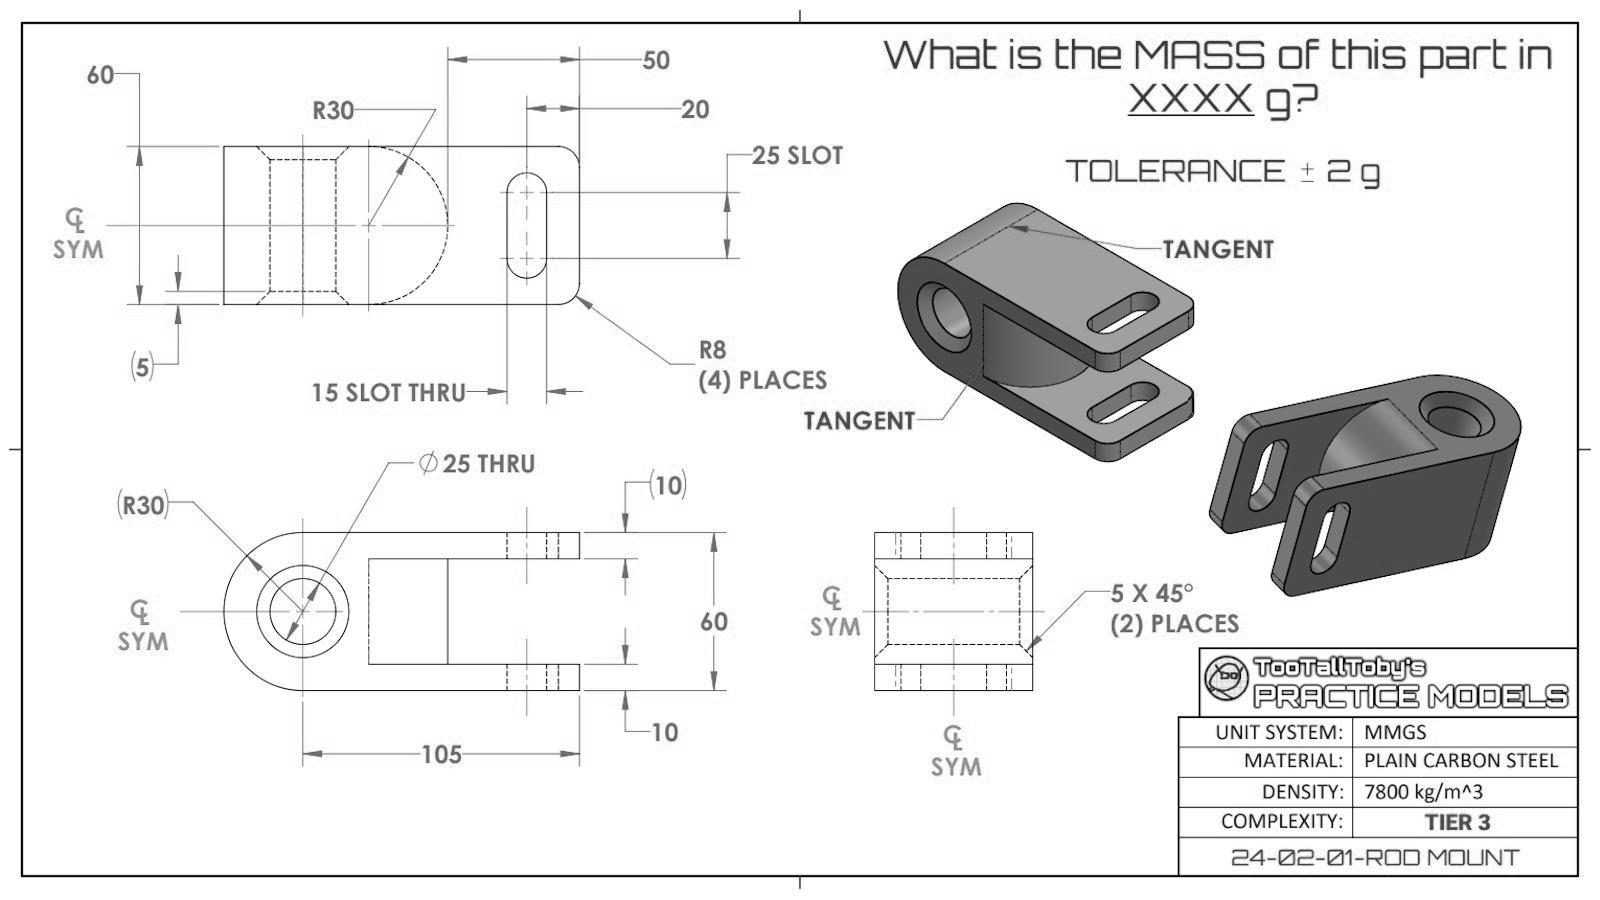-: (1299, 161, 1316, 183)
0: (667, 475, 682, 495), (433, 744, 448, 764), (100, 64, 114, 85), (340, 101, 354, 121), (696, 98, 709, 119), (151, 495, 164, 516), (657, 50, 669, 70), (716, 611, 727, 632), (666, 722, 677, 742), (1398, 782, 1409, 800), (1388, 783, 1397, 801)
1: (312, 382, 321, 403), (655, 475, 664, 496), (423, 743, 431, 765), (653, 722, 660, 742)
2: (1327, 157, 1353, 183), (1120, 614, 1134, 634), (681, 98, 694, 119), (443, 452, 456, 473), (751, 145, 765, 164)
3: (136, 495, 150, 515), (327, 100, 340, 121)
4: (707, 369, 722, 389), (1156, 584, 1170, 603)
5: (642, 50, 657, 71), (766, 144, 781, 165), (457, 453, 471, 473), (324, 382, 338, 402), (1170, 583, 1184, 603), (449, 743, 462, 764), (1111, 582, 1124, 603), (136, 358, 149, 376)
6: (87, 64, 99, 85), (700, 612, 712, 631)
7: (1362, 783, 1374, 799)
8: (712, 340, 727, 359), (1374, 783, 1387, 801)
Degrees: (1184, 582, 1195, 592)
Density: (1262, 782, 1347, 802)
Diameter: (417, 449, 438, 477)
MMGS: (1364, 723, 1427, 742)
Material: (1242, 752, 1344, 771)
Places: (740, 369, 828, 391), (1151, 613, 1242, 634)
PlainCarbonSteel: (1364, 751, 1561, 769)
Radius: (122, 496, 137, 515), (699, 339, 713, 359), (313, 99, 326, 120)
SYM: (52, 238, 104, 261), (118, 629, 170, 652), (931, 756, 983, 777), (812, 617, 861, 637)
Slot: (786, 144, 844, 166), (346, 381, 401, 402)
Symmetry: (822, 584, 844, 612), (131, 598, 151, 627), (66, 206, 86, 234), (944, 724, 963, 752)
Tangent: (1161, 237, 1276, 260), (803, 409, 917, 431)
Thru: (477, 453, 537, 475), (407, 381, 466, 402)
UnitSystem: (1214, 722, 1346, 742)
X: (1127, 81, 1158, 113), (1159, 82, 1191, 113), (1192, 82, 1223, 113), (1224, 82, 1253, 113), (1132, 582, 1148, 604)
grams: (1266, 87, 1291, 122), (1361, 163, 1380, 191)
